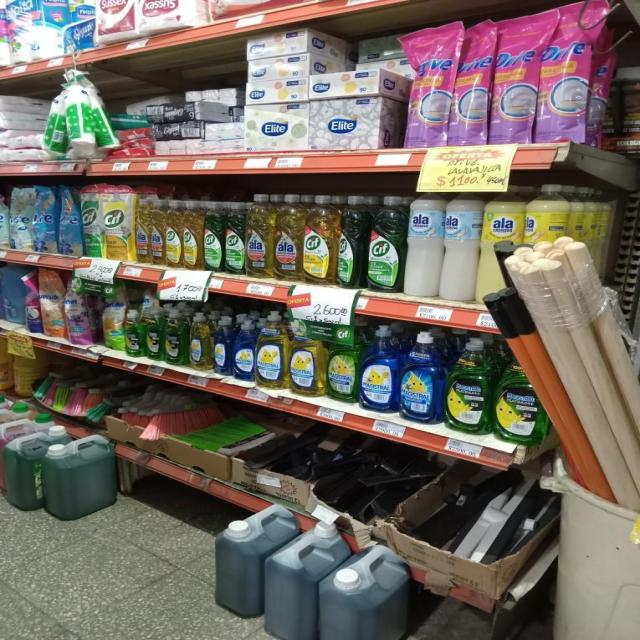ala_conc_amarillo: (274, 193, 302, 282), (246, 193, 273, 278), (135, 192, 150, 264), (150, 196, 165, 266)
ala_crem_amarillo: (482, 184, 522, 270)
ala_crem_blanco: (442, 189, 480, 302), (405, 190, 442, 298)
cif_conc_bot_amarilla: (303, 194, 336, 285), (184, 199, 202, 270), (166, 197, 182, 268)
cif_conc_botella_verde: (366, 195, 404, 293), (337, 194, 366, 289), (224, 200, 245, 274), (204, 200, 223, 272)
cif_conc_sachet_amarillo: (104, 183, 133, 260), (83, 183, 102, 258)
magistral_con_amarillo: (289, 325, 325, 397), (255, 311, 288, 389), (326, 329, 358, 403), (189, 312, 211, 371)
magistral_con_azul: (400, 329, 442, 424), (360, 324, 398, 413), (233, 316, 255, 382), (212, 315, 232, 376)
magistral_con_verde: (164, 310, 187, 365), (146, 309, 164, 360), (125, 309, 144, 356)
